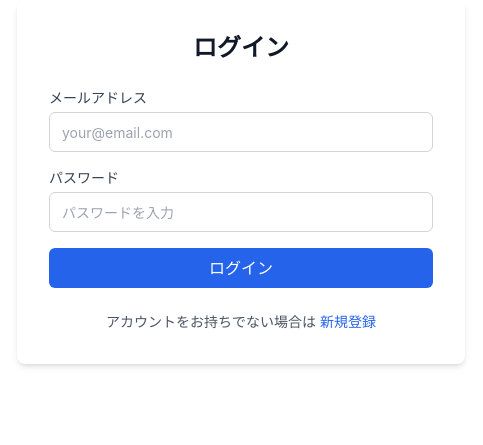
Test case: LoginForm › should validate email format
In the field labelled "メールアドレス": (241, 132) [49,112,433,152], type "invalid"
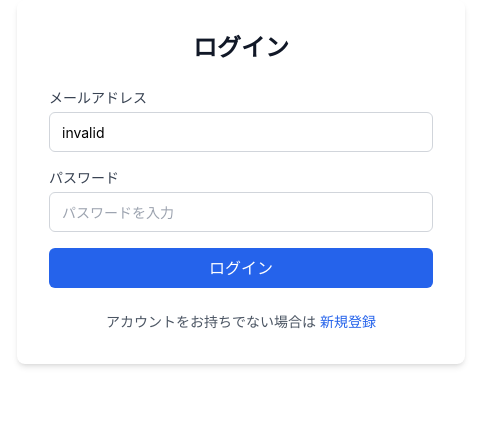
In the password field labelled "パスワード": (241, 212) [49,192,433,232], type "password123"
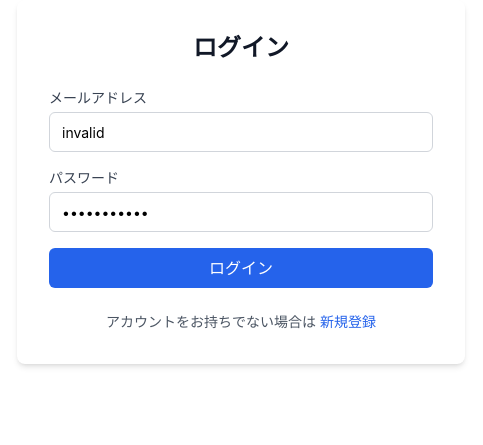
Click the button "ログイン": (241, 268) [49,248,433,288]
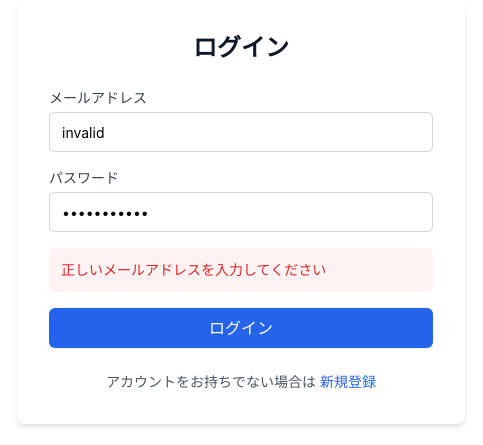
Now the text "正しいメールアドレスを入力してください" is shown, box [61,261,326,278]
